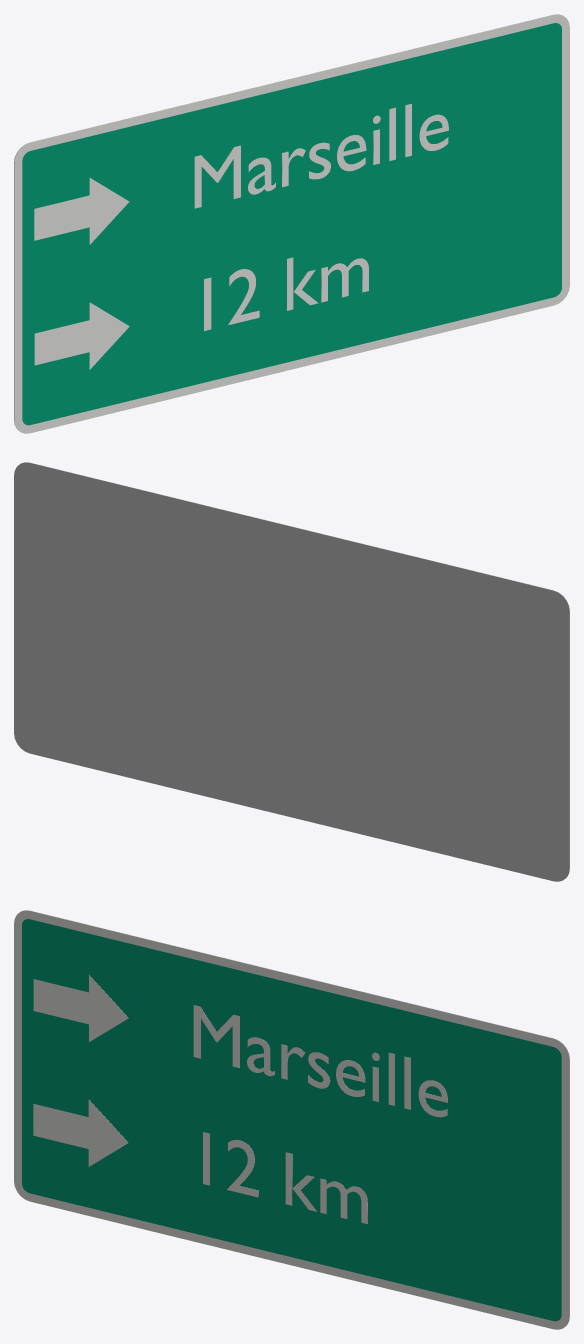
3 renders of one model, top to bottom at view 1: azimuth 30°, elevation 25°; view 2: azimuth 150°, elevation 25°; view 3: azimuth 330°, elevation 25°, orthographic.
Visible parts, largest first — view 1: Dv43b_fond01, Dv43b_cadre00, Dv43b_txt03, Dv43b_fl04, Dv43b_fl02, Dv43b_txt05, Dv43b_dos; view 2: Dv43b_dos; view 3: Dv43b_fond01, Dv43b_cadre00, Dv43b_txt03, Dv43b_fl04, Dv43b_fl02, Dv43b_txt05, Dv43b_dos.
Part boxes in pixels (bbox=[...]): Dv43b_fond01: bbox=[22, 23, 561, 425]; Dv43b_cadre00: bbox=[14, 14, 569, 433]; Dv43b_txt03: bbox=[194, 104, 448, 208]; Dv43b_fl04: bbox=[34, 302, 129, 369]; Dv43b_fl02: bbox=[34, 178, 129, 244]; Dv43b_txt05: bbox=[204, 257, 368, 330]; Dv43b_dos: bbox=[14, 14, 560, 428]; Dv43b_dos: bbox=[14, 462, 569, 881]; Dv43b_fond01: bbox=[22, 919, 561, 1321]; Dv43b_cadre00: bbox=[14, 910, 569, 1329]; Dv43b_txt03: bbox=[193, 1005, 448, 1117]; Dv43b_fl04: bbox=[33, 1099, 128, 1166]; Dv43b_fl02: bbox=[33, 975, 128, 1041]; Dv43b_txt05: bbox=[203, 1132, 367, 1224]; Dv43b_dos: bbox=[23, 910, 569, 1324].
Size of the model in its own units: 1.4 by 0.7 by 0.0037.
